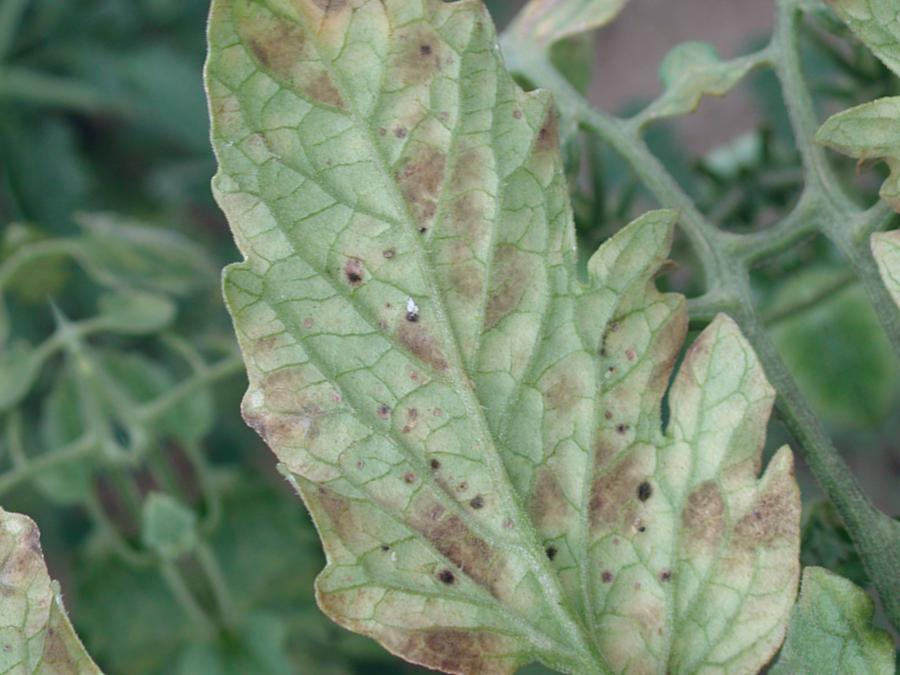Tomato mold leaf: (6, 0, 900, 675)
